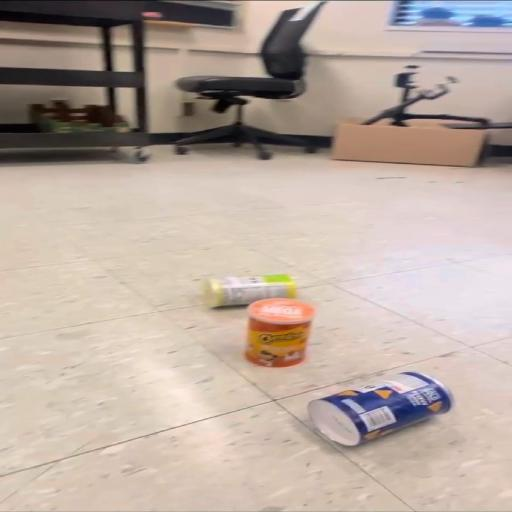pringle can: (309, 372, 453, 446), (250, 302, 310, 368), (203, 275, 296, 307)
